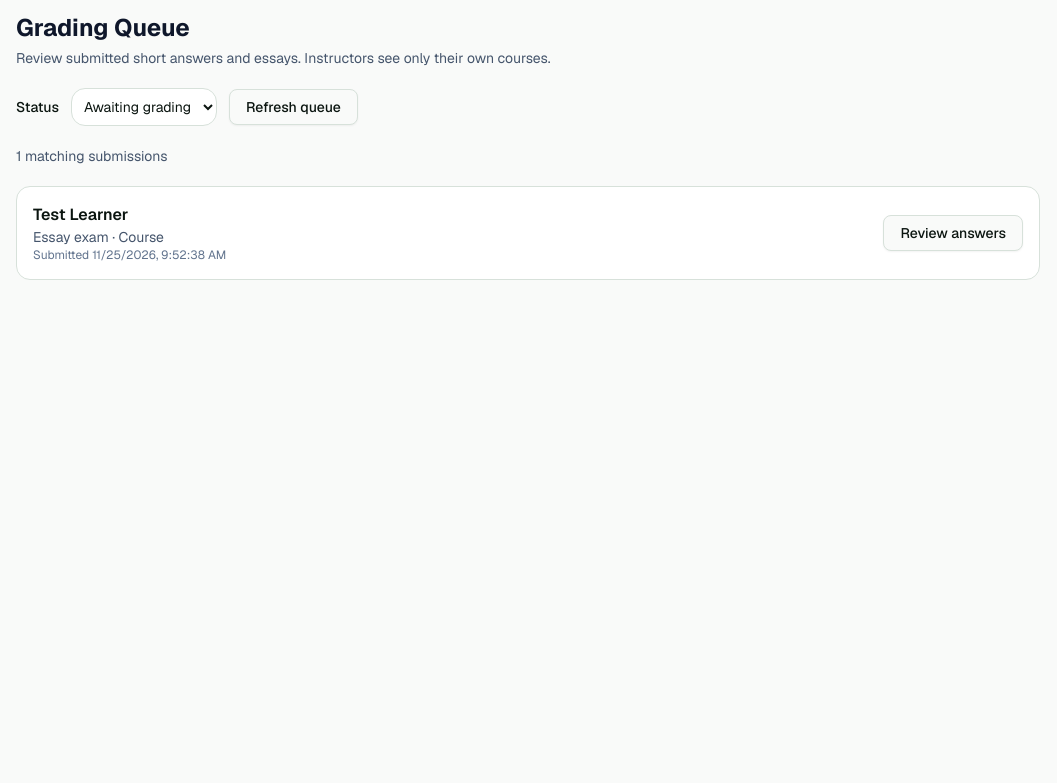
Test case: preserves marks and feedback after a failed save
Step 1. Click the button "Review answers" → coordinates (953, 233), box [883,215,1023,251]
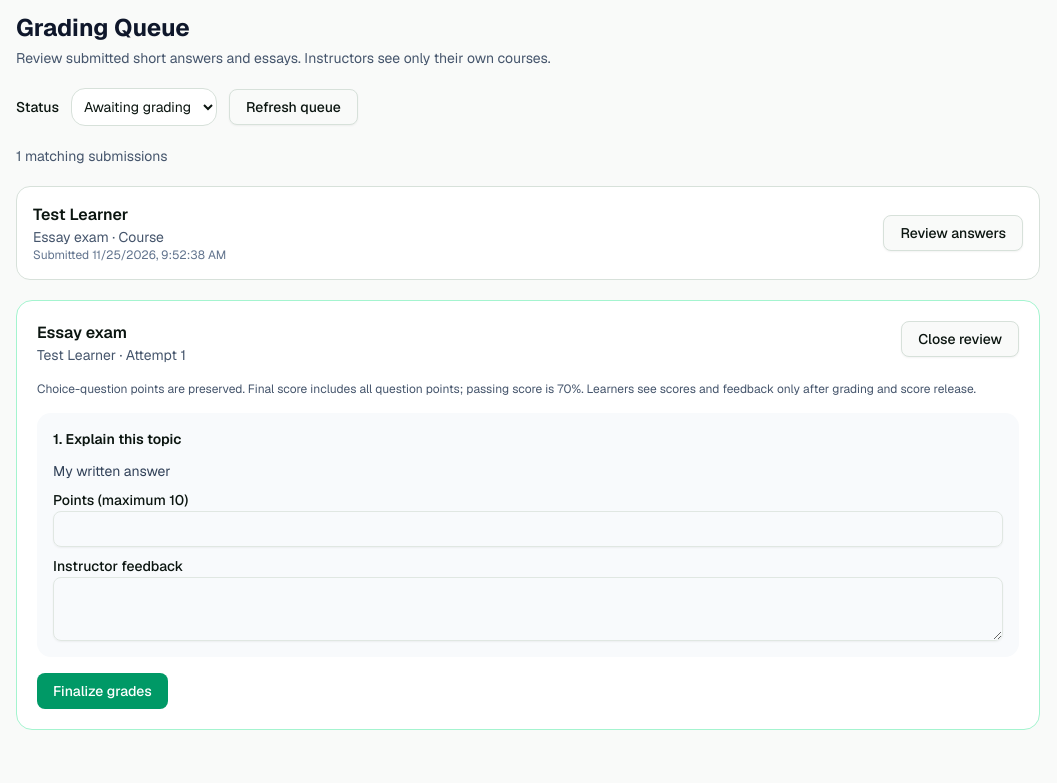
Step 2. Type "8" into the number field labelled "Points (maximum 10)" → coordinates (528, 529), box [53,511,1003,547]
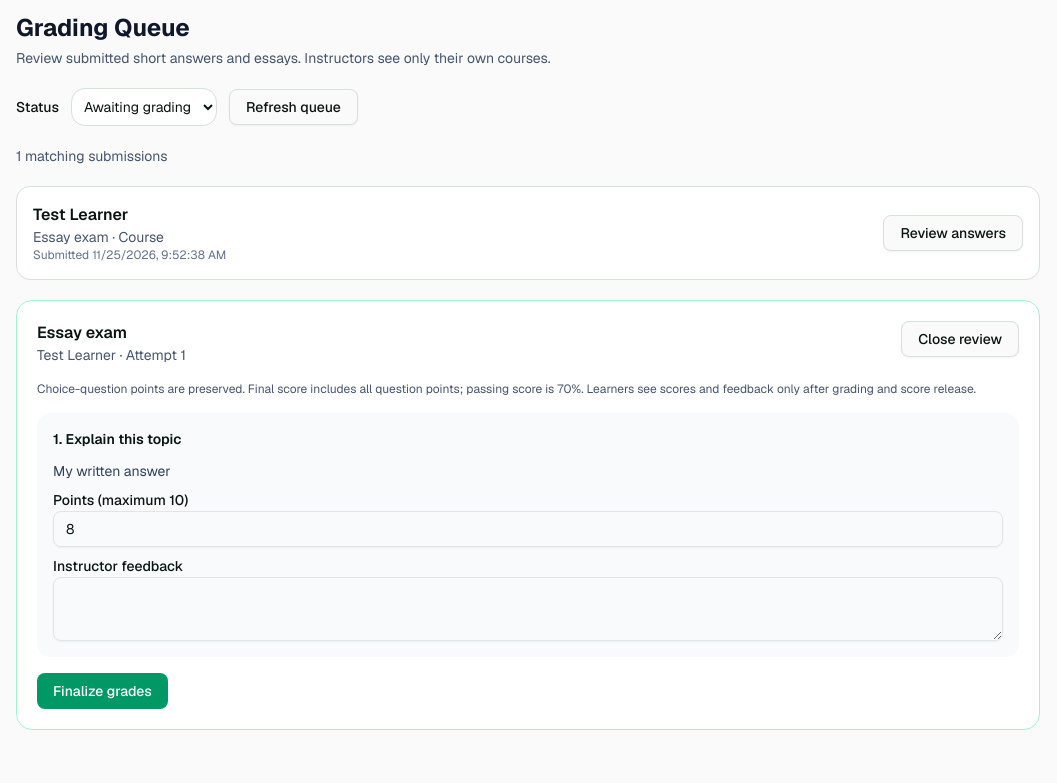
Step 3. Type "Good explanation" into the text box labelled "Instructor feedback" → coordinates (528, 609), box [53,577,1003,641]
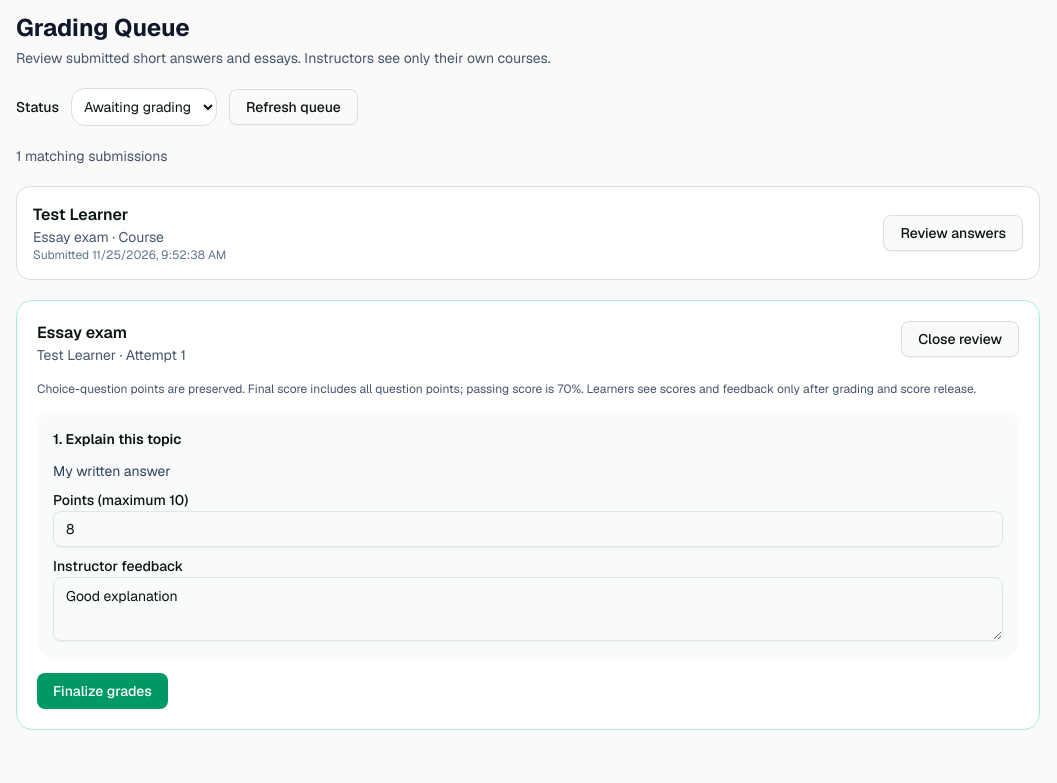
Step 4. Click the button "Finalize grades" → coordinates (102, 691), box [37,673,168,709]
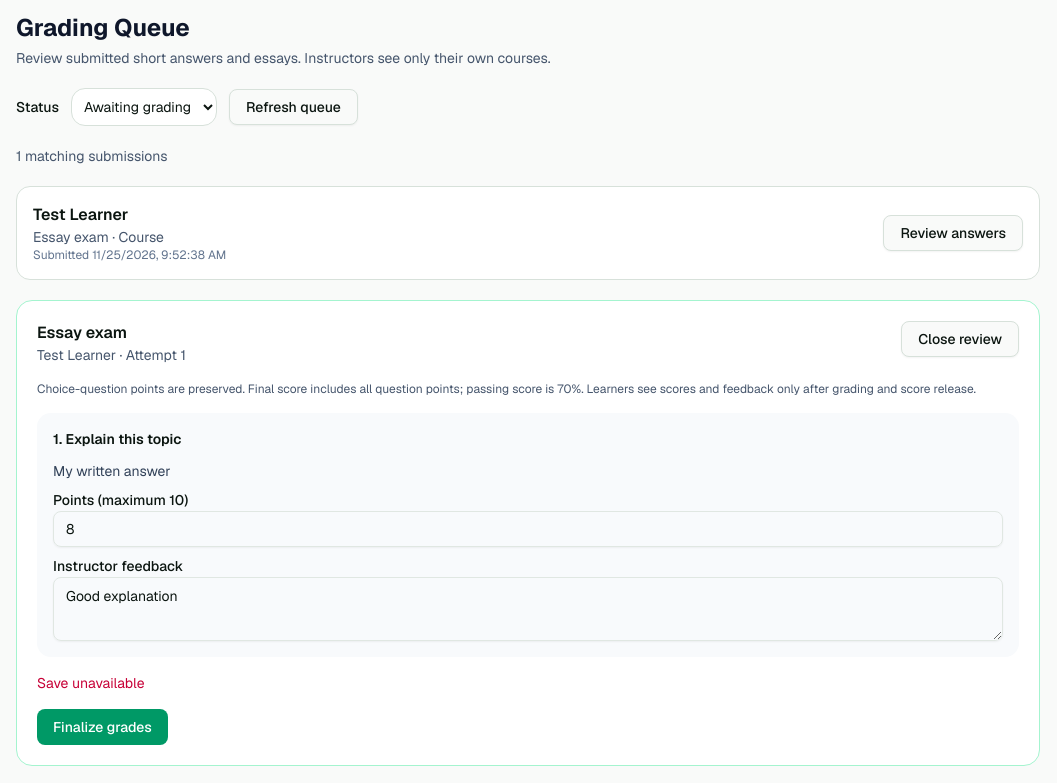
Now the message reads "Save unavailable", box [37,674,145,692]
